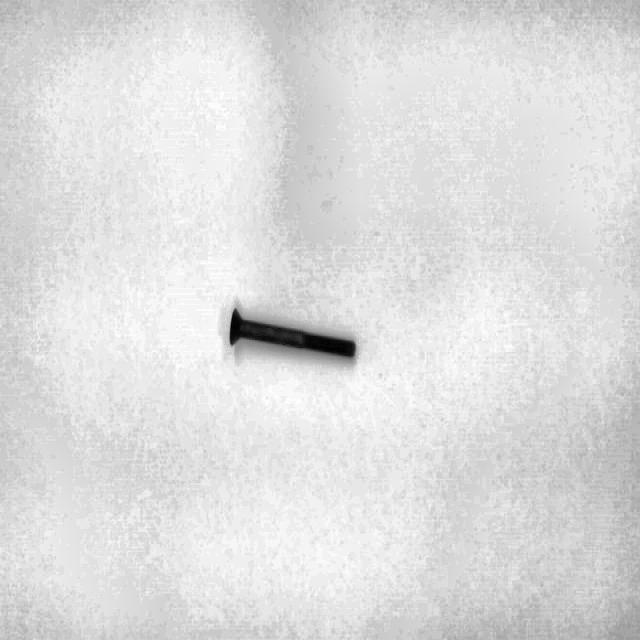Flat head socket screw: (226, 304, 357, 361)
